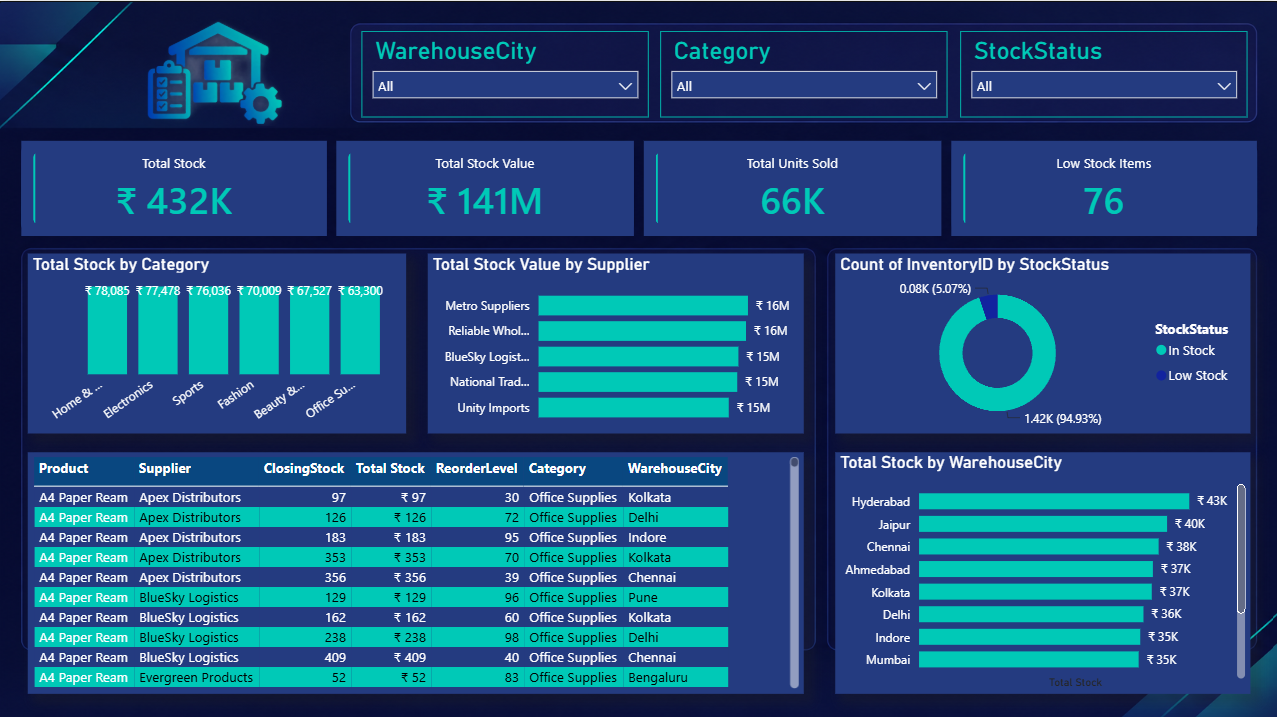

Layout of this report page (visuals, bound fields, positions):
{"tool":"powerbi","page":{"name":"Page 1","canvas":[1280,720],"ordinal":0},"visuals":[{"type":"cardVisual","fields":{"Data":["Inventory_Data.Total Stock Value"]},"box":[332.5,135,307.5,105],"z":0},{"type":"cardVisual","fields":{"Data":["Inventory_Data.Total Stock"]},"box":[17.5,135,315,105],"z":1000},{"type":"cardVisual","fields":{"Data":["Inventory_Data.Total Units Sold"]},"box":[640,135,307.5,105],"z":2000},{"type":"cardVisual","fields":{"Data":["Inventory_Data.Low Stock Items"]},"box":[947.5,135,315,105],"z":3000},{"type":"clusteredColumnChart","fields":{"Category":["Inventory_Data.Category"],"Y":["Inventory_Data.Total Stock"]},"box":[28.8,252.5,378.8,180],"z":4000},{"type":"clusteredBarChart","fields":{"Category":["Inventory_Data.Supplier"],"Y":["Inventory_Data.Total Stock Value"]},"box":[428.8,252.5,376.2,180],"z":5000},{"type":"donutChart","fields":{"Category":["Inventory_Data.StockStatus"],"Y":["CountNonNull(Inventory_Data.InventoryID)"]},"box":[836.2,252.5,415,180],"z":6000},{"type":"clusteredBarChart","fields":{"Y":["Inventory_Data.Total Stock"],"Category":["Inventory_Data.WarehouseCity"]},"box":[836.2,451.2,415,241.2],"z":7000},{"type":"tableEx","fields":{"Values":["Inventory_Data.Product","Inventory_Data.Supplier","Inventory_Data.ClosingStock","Inventory_Data.Total Stock","Inventory_Data.ReorderLevel","Inventory_Data.Category","Inventory_Data.WarehouseCity"]},"box":[28.8,451.2,776.2,241.2],"z":8000},{"type":"slicer","fields":{"Values":["Inventory_Data.WarehouseCity"]},"box":[362.5,30,287.5,86.2],"z":9000},{"type":"slicer","fields":{"Values":["Inventory_Data.Category"]},"box":[661.2,30,287.5,86.2],"z":10000},{"type":"slicer","fields":{"Values":["Inventory_Data.StockStatus"]},"box":[961.2,30,287.5,86.2],"z":11000},{"type":"image","box":[46.2,0,343.8,125],"z":11001}]}

Visuals, with their boxes in screenshot pixels (x1, y1, x2, y2), scaled from the page's 1280x720 canvas onto the 1277x717 screenshot:
cardVisual - Inventory_Data.Total Stock Value: {"left": 332, "top": 134, "right": 638, "bottom": 239}
cardVisual - Inventory_Data.Total Stock: {"left": 17, "top": 134, "right": 332, "bottom": 239}
cardVisual - Inventory_Data.Total Units Sold: {"left": 638, "top": 134, "right": 945, "bottom": 239}
cardVisual - Inventory_Data.Low Stock Items: {"left": 945, "top": 134, "right": 1260, "bottom": 239}
clusteredColumnChart - Inventory_Data.Category x Inventory_Data.Total Stock: {"left": 29, "top": 251, "right": 407, "bottom": 431}
clusteredBarChart - Inventory_Data.Supplier x Inventory_Data.Total Stock Value: {"left": 428, "top": 251, "right": 803, "bottom": 431}
donutChart - Inventory_Data.StockStatus x CountNonNull(Inventory_Data.InventoryID): {"left": 834, "top": 251, "right": 1248, "bottom": 431}
clusteredBarChart - Inventory_Data.Total Stock x Inventory_Data.WarehouseCity: {"left": 834, "top": 449, "right": 1248, "bottom": 690}
tableEx - Inventory_Data.Product x Inventory_Data.Supplier: {"left": 29, "top": 449, "right": 803, "bottom": 690}
slicer - Inventory_Data.WarehouseCity: {"left": 362, "top": 30, "right": 648, "bottom": 116}
slicer - Inventory_Data.Category: {"left": 660, "top": 30, "right": 946, "bottom": 116}
slicer - Inventory_Data.StockStatus: {"left": 959, "top": 30, "right": 1246, "bottom": 116}
image: {"left": 46, "top": 0, "right": 389, "bottom": 124}
